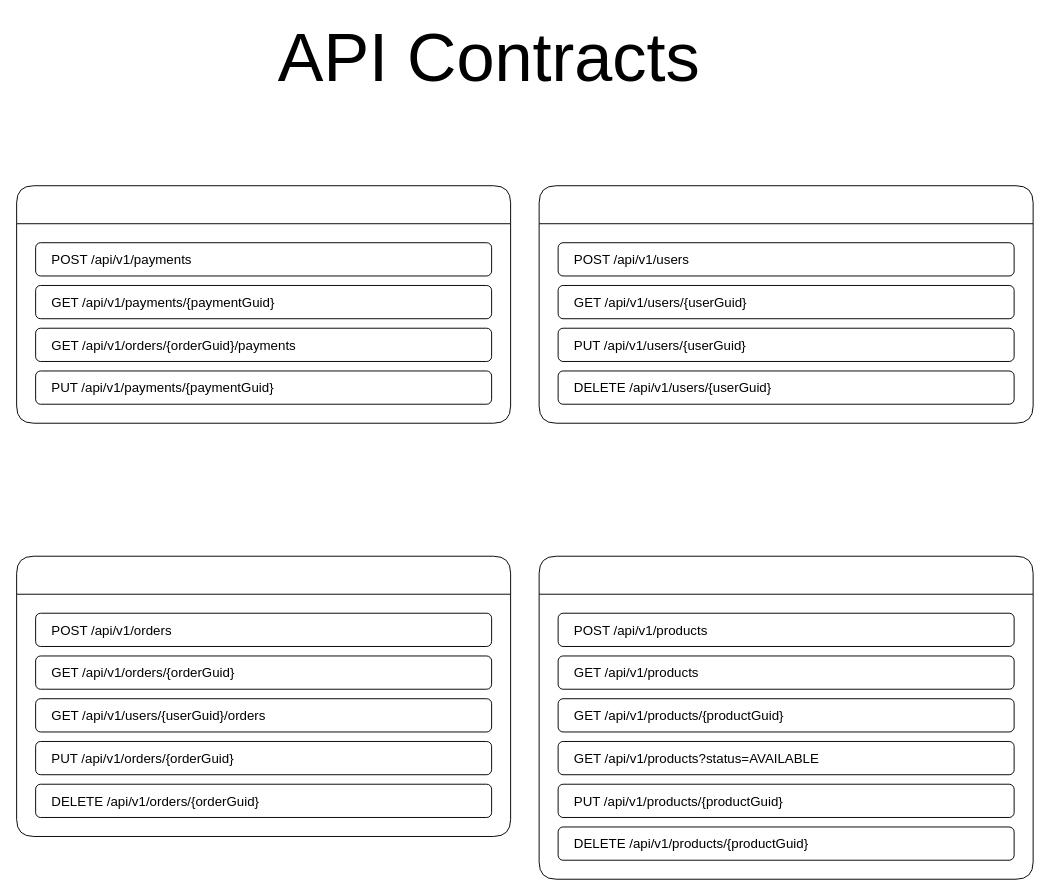
The diagram is 1050 pixels wide and 896 high, and some of its shapes have lost their labels. The box of each missing label's shape, as (x1, y1, x2, y2) in pixels:
Orders API: (16, 555, 511, 836)
Payments API: (16, 185, 511, 423)
Products API: (538, 555, 1033, 879)
Users API: (538, 185, 1033, 423)
